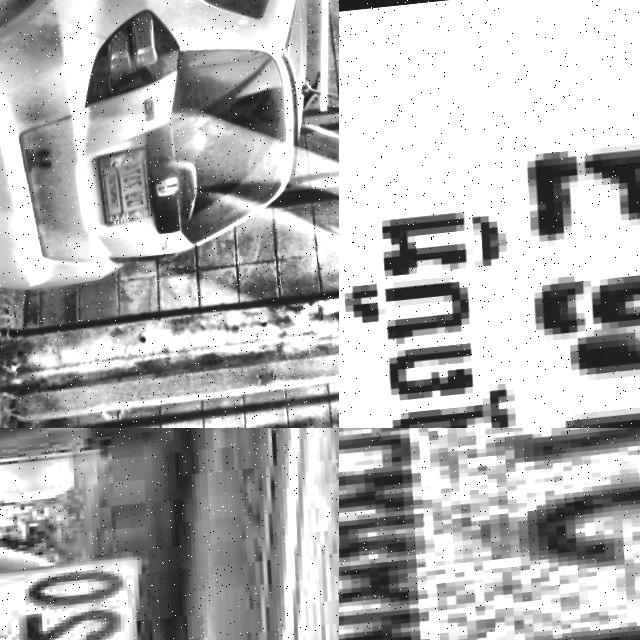license-plate: (339, 0, 640, 428), (339, 428, 640, 640), (0, 428, 258, 640), (91, 146, 166, 228)
